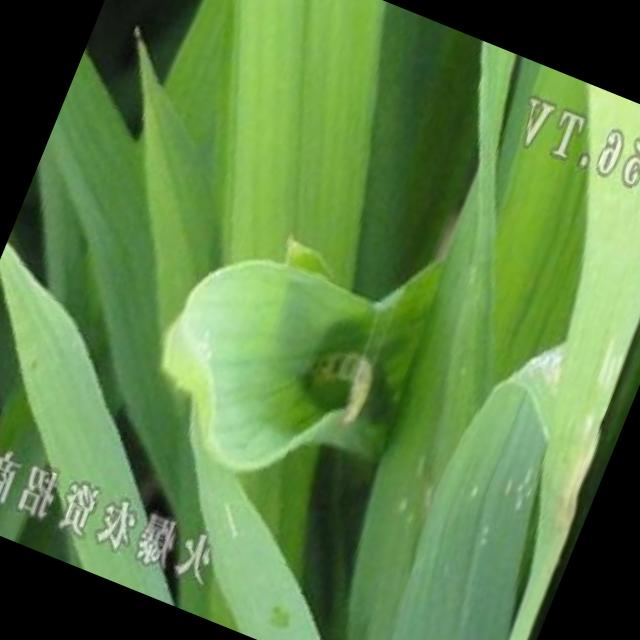leaf-folder: (261, 292, 418, 471)
